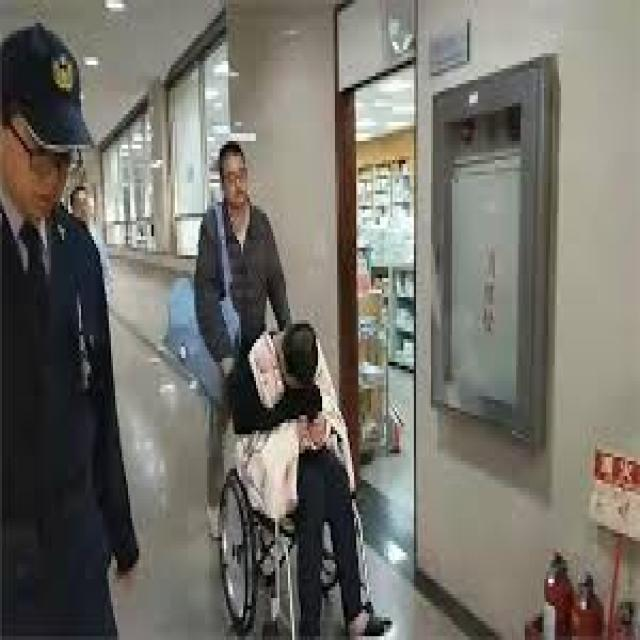wheelchairs: (203, 343, 386, 636)
